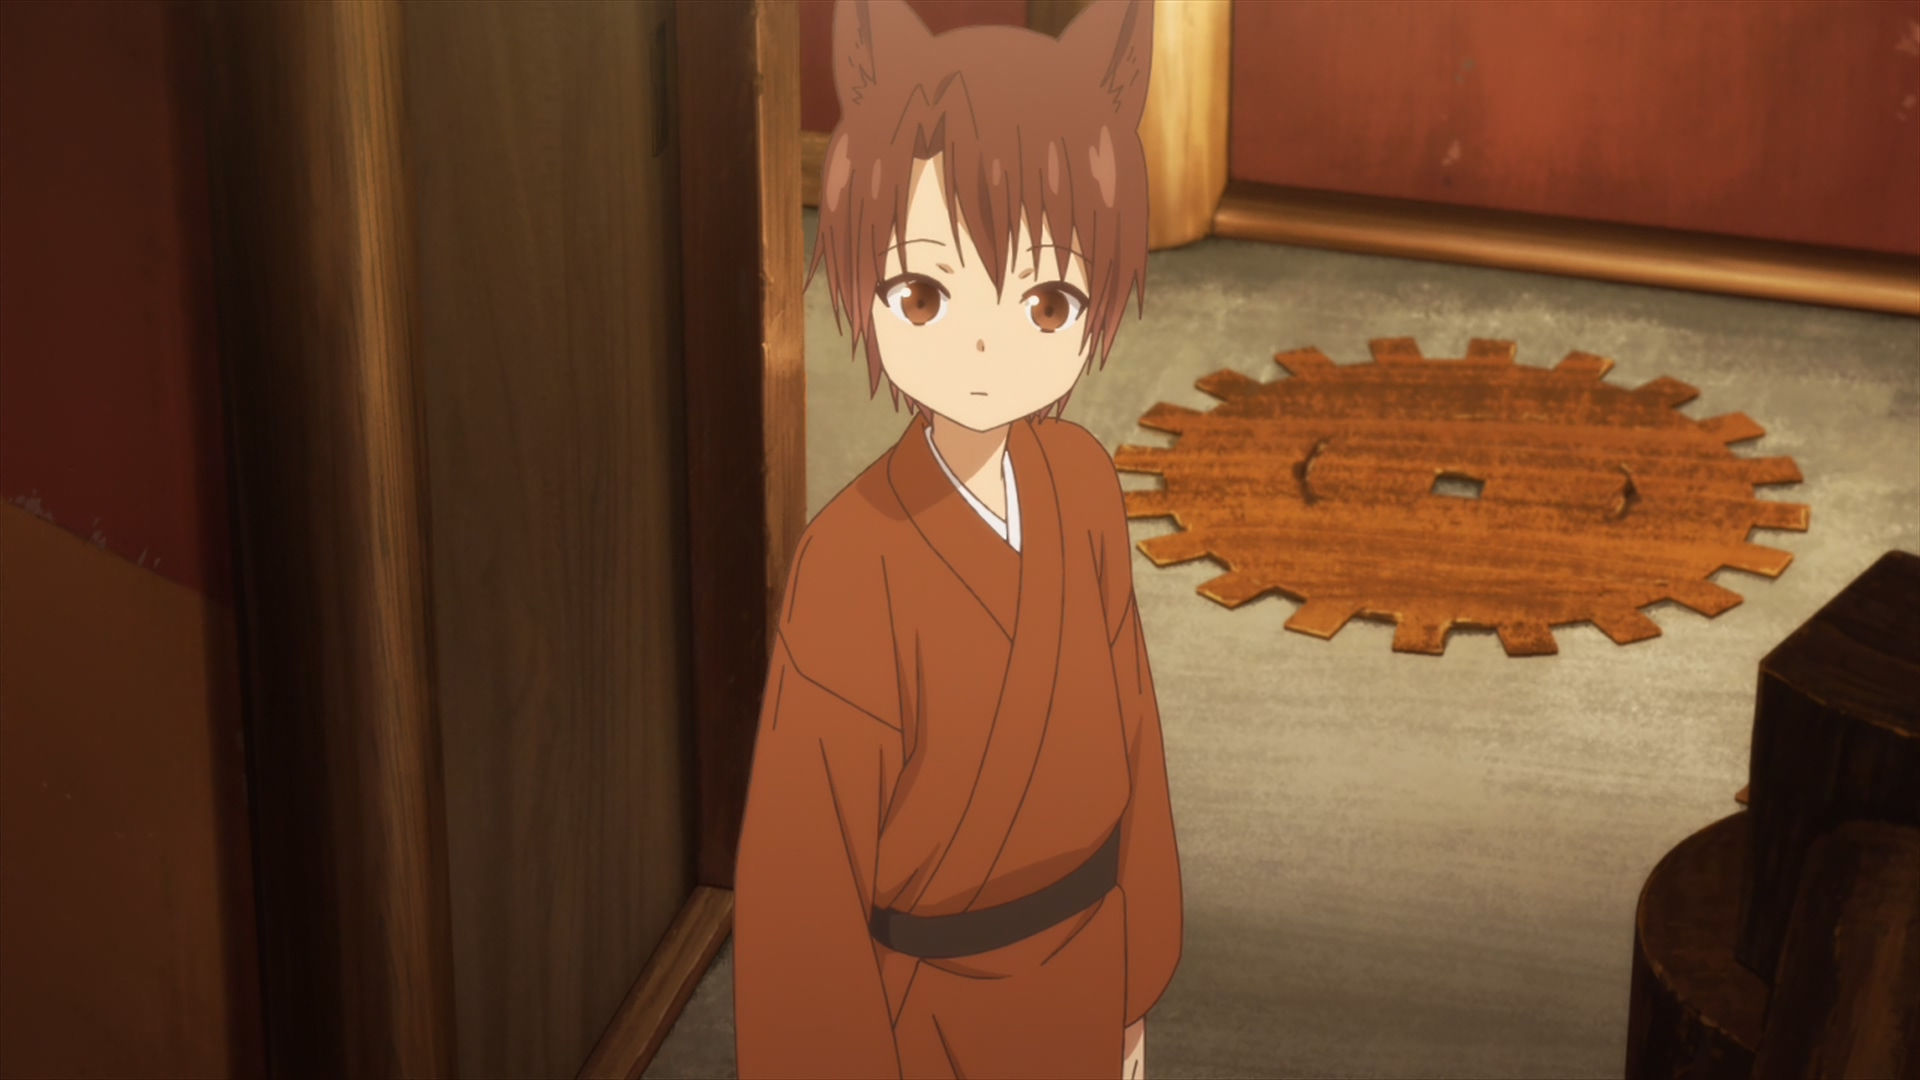枣: (733, 1, 1182, 1080)
